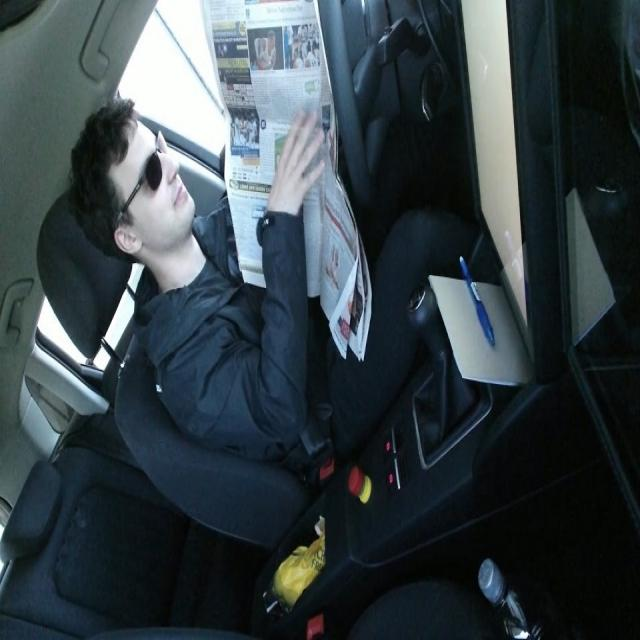pen: (458, 252, 495, 348)
